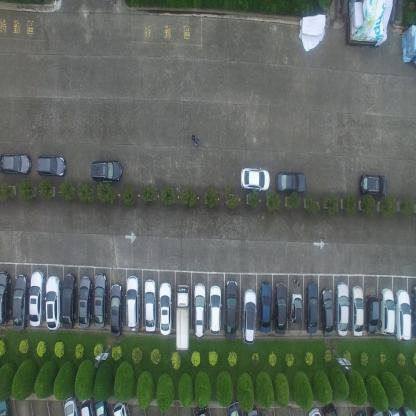car: (12, 274, 29, 332), (29, 271, 46, 328), (175, 283, 189, 351), (224, 278, 239, 341), (394, 288, 411, 343), (61, 272, 77, 330), (45, 274, 61, 330), (242, 288, 257, 346), (125, 274, 140, 332), (275, 170, 307, 197), (192, 282, 207, 339), (90, 158, 124, 183), (379, 287, 396, 336), (94, 271, 108, 330), (109, 283, 124, 338), (335, 280, 349, 338), (35, 153, 66, 179), (158, 280, 172, 336), (78, 274, 92, 330), (259, 281, 273, 335), (240, 167, 271, 191), (0, 152, 31, 176), (208, 284, 222, 337), (274, 282, 288, 335), (350, 285, 364, 338), (144, 278, 157, 334), (360, 172, 388, 198), (305, 282, 318, 335), (364, 292, 380, 334), (0, 270, 12, 325), (320, 287, 333, 337), (290, 292, 302, 324), (63, 395, 80, 415), (410, 284, 416, 338), (112, 398, 129, 416), (94, 398, 110, 416), (81, 397, 96, 415), (0, 394, 12, 415), (227, 400, 241, 416), (400, 402, 416, 416), (195, 402, 209, 416), (323, 402, 337, 415), (245, 403, 259, 415), (386, 404, 401, 415), (370, 405, 385, 415), (307, 406, 320, 416)
